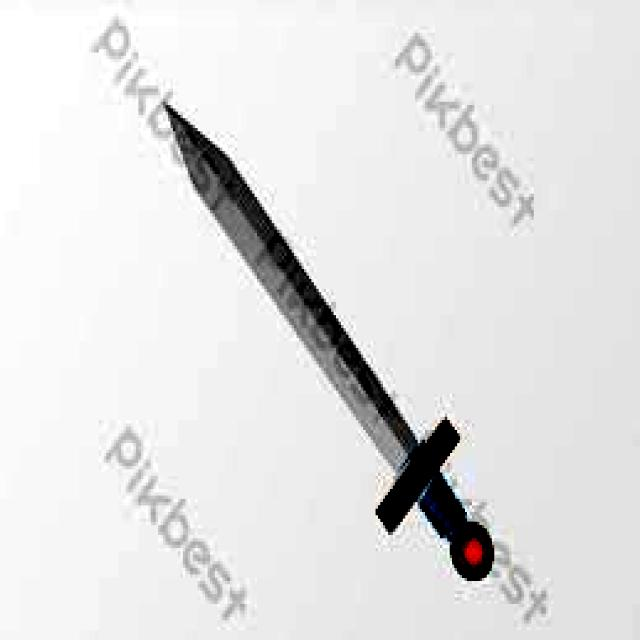long sword: (160, 99, 516, 584)
